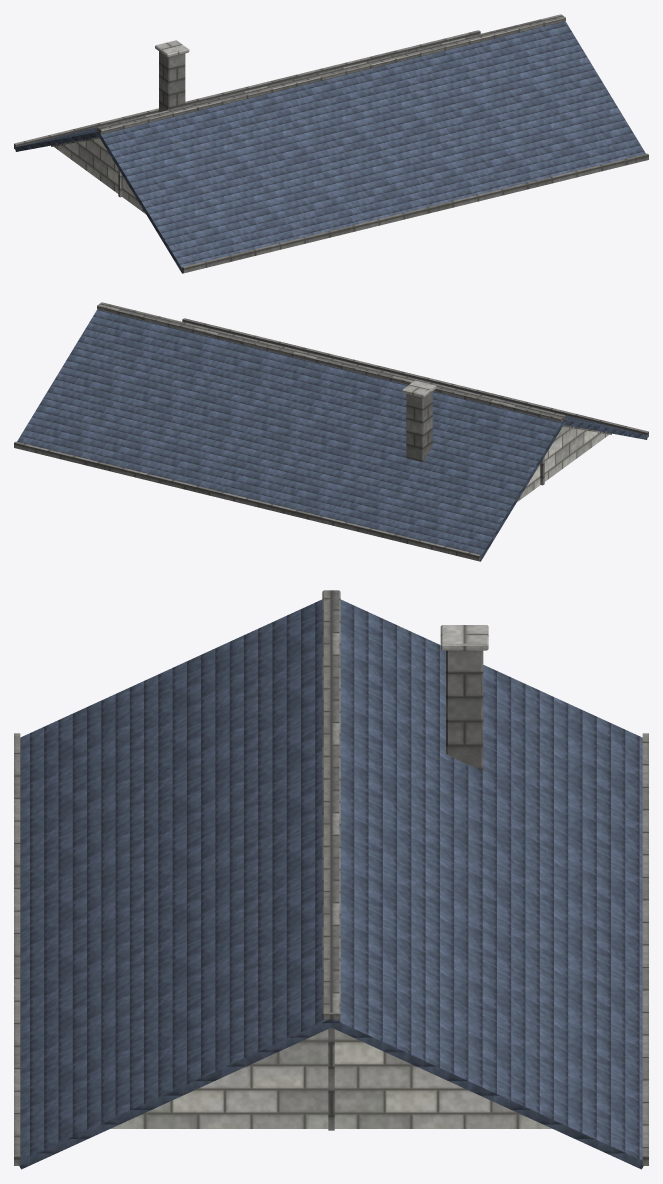
File: roof_keep.glb
3 views of the same model, one above another, from view 1: azimuth 30°, elevation 25°; view 2: azimuth 150°, elevation 25°; view 3: azimuth 270°, elevation 25° (orthographic). The views are drawn at different scales.
Visible parts, largest first — view 1: roof_keep; view 2: roof_keep; view 3: roof_keep.
Boxes of the visible parts, bbox=[...] form: roof_keep: bbox=[14, 14, 648, 273]; roof_keep: bbox=[14, 302, 648, 561]; roof_keep: bbox=[14, 590, 648, 1169].
Bounding box in the file's own units: 18.8 × 4.37 × 11.92.
Materials: 4 (4 with a texture image).
